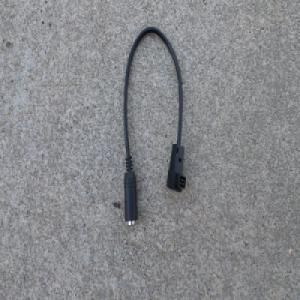Wire: (121, 25, 187, 228)
